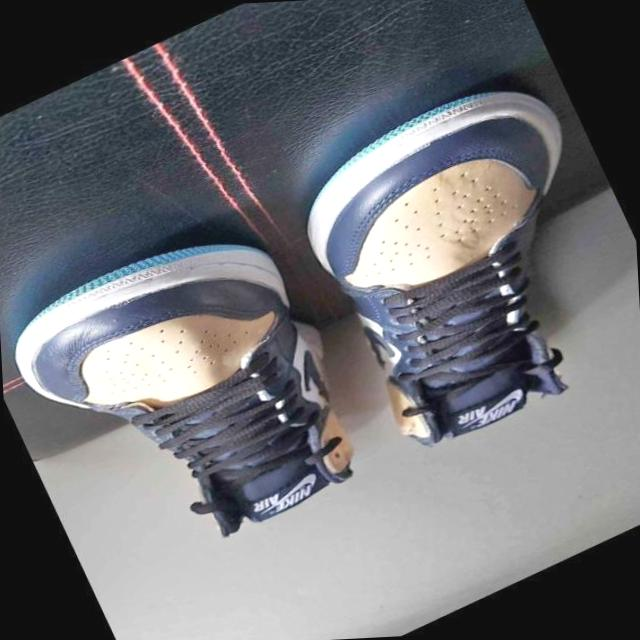nike_fake_jordan: (0, 194, 389, 595), (267, 55, 640, 472)
